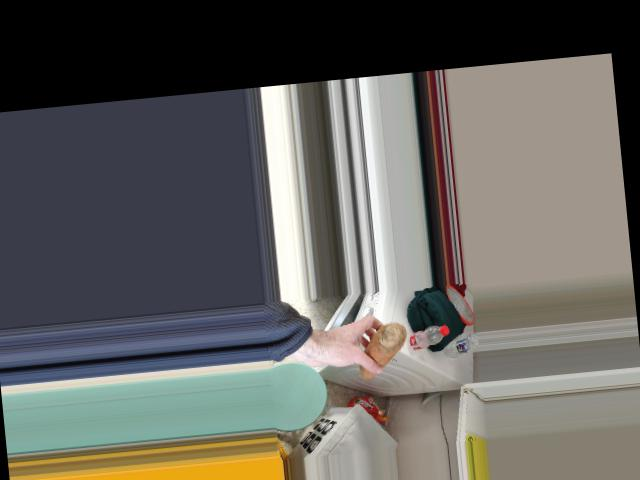sweet_potato: (355, 317, 409, 384)
